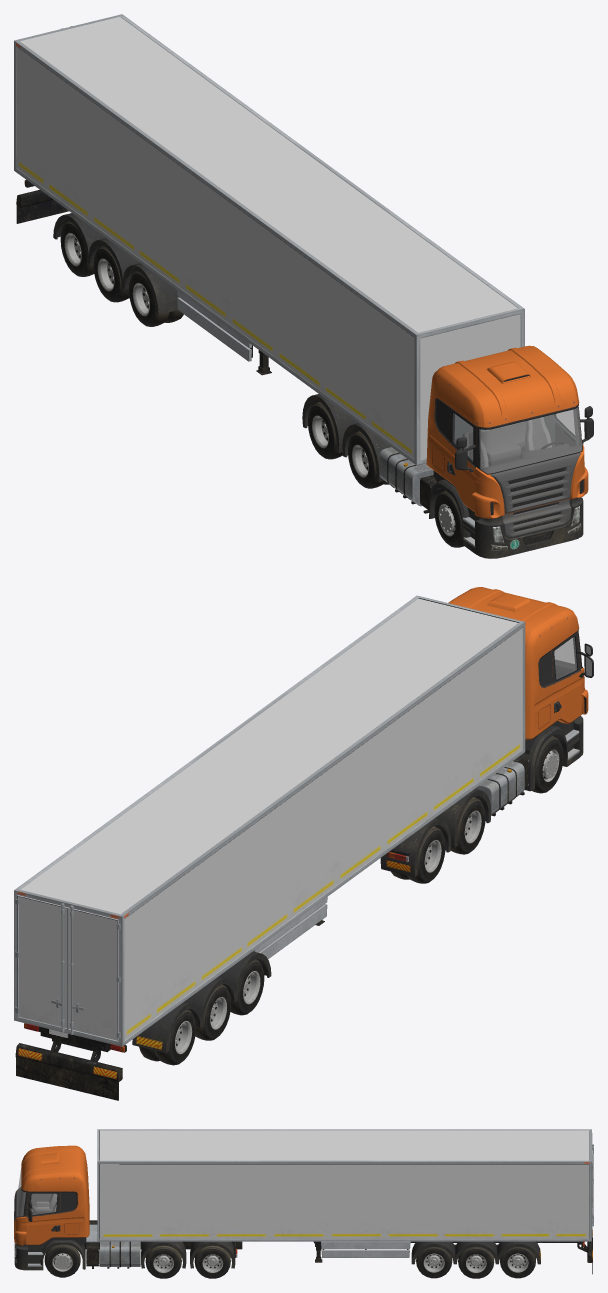
The model's file is euro-truck.fbx.
The picture shows the model from 3 angles, top to bottom: view 1: azimuth 30°, elevation 25°; view 2: azimuth 150°, elevation 25°; view 3: azimuth 270°, elevation 25°; orthographic projection. The views are drawn at different scales.
Parts seen in each view (by area): view 1: Body, polySurface86, polySurface68, polySurface114, polySurface1, polySurface76, polySurface11; view 2: Body, polySurface11, polySurface114, polySurface68, polySurface1, polySurface76, polySurface86; view 3: Body, polySurface38, polySurface10, polySurface7, polySurface89, polySurface36, polySurface101.
Boxes of the visible parts, bbox=[...] form: Body: bbox=[14, 14, 593, 558]; polySurface86: bbox=[129, 271, 183, 326]; polySurface68: bbox=[348, 431, 388, 488]; polySurface114: bbox=[308, 402, 342, 459]; polySurface1: bbox=[93, 246, 129, 302]; polySurface76: bbox=[434, 490, 463, 547]; polySurface11: bbox=[60, 221, 94, 276]; Body: bbox=[14, 587, 593, 1100]; polySurface11: bbox=[139, 1009, 195, 1065]; polySurface114: bbox=[391, 826, 445, 883]; polySurface68: bbox=[450, 797, 485, 854]; polySurface1: bbox=[195, 984, 230, 1040]; polySurface76: bbox=[532, 736, 563, 793]; polySurface86: bbox=[230, 959, 264, 1015]; Body: bbox=[14, 1129, 593, 1274]; polySurface38: bbox=[44, 1244, 80, 1277]; polySurface10: bbox=[145, 1245, 181, 1278]; polySurface7: bbox=[194, 1245, 230, 1278]; polySurface89: bbox=[458, 1246, 494, 1278]; polySurface36: bbox=[500, 1246, 535, 1278]; polySurface101: bbox=[416, 1246, 452, 1278].
Size of the model in its own units: 160008 by 211865 by 946890.
Materials: 5 (4 with a texture image).
